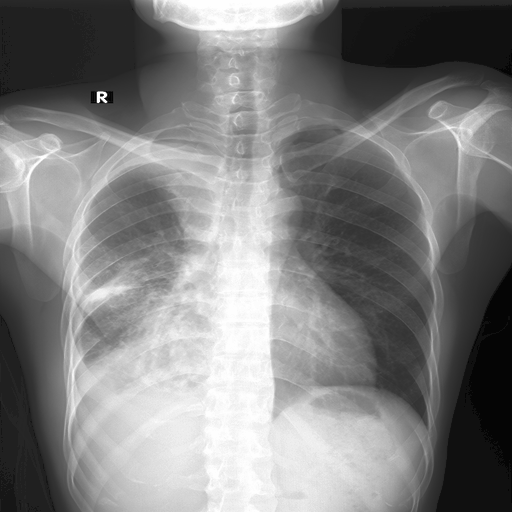Aortic enlargement: (128, 128, 219, 237), (81, 259, 143, 308)
ILD: (78, 178, 178, 361)
Infiltration: (124, 144, 219, 242)
Nodule/Mass: (164, 305, 379, 383)
Pleural effusion: (68, 361, 123, 422)
Pleural thickening: (77, 257, 220, 383), (128, 128, 219, 237)
